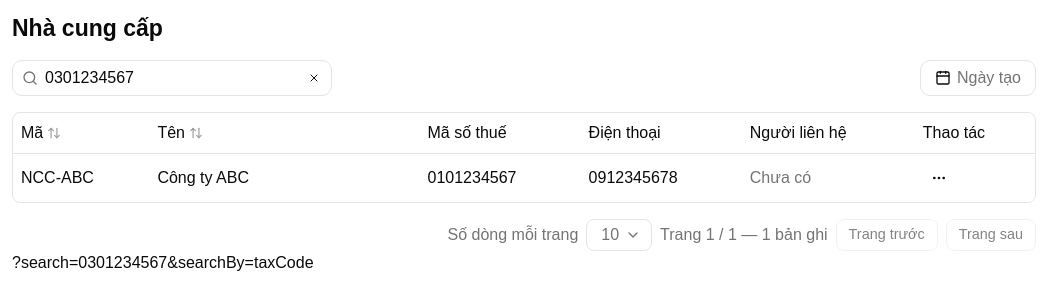
Test case: SuppliersPage — tìm (cờ supplierSearch bật) › gõ lại ô tìm → bỏ lựa chọn searchBy cũ, đoán lại từ đầu
Expected: the link "Công ty ABC" is shown, [157,168,249,186]
Replace the text in the search field with "0912345678": (172, 78) [12,60,332,96]
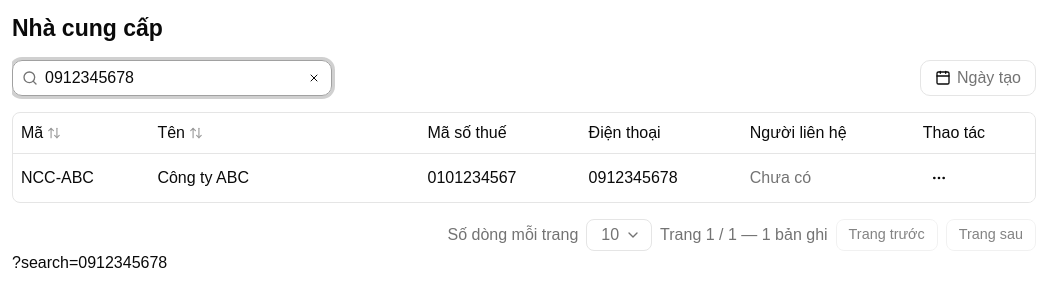
Expected: the text with test id "location" no longer shows "searchBy", [12,254,167,270]
